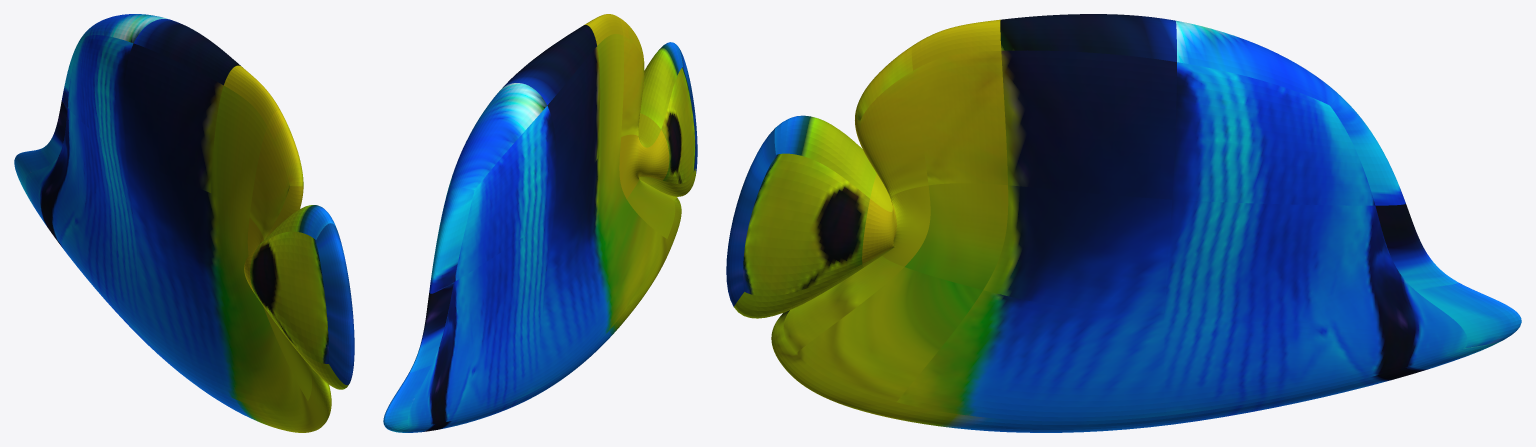
The model's file is bluefishmid.obj.
3 renders of one model, left to right at view 1: azimuth 30°, elevation 25°; view 2: azimuth 150°, elevation 25°; view 3: azimuth 270°, elevation 25°, orthographic. The views are drawn at different scales.
Parts seen in each view (by area): view 1: Cube; view 2: Cube; view 3: Cube.
Boxes of the visible parts, <box> form: Cube: <box>14,14,354,432</box>; Cube: <box>383,14,697,432</box>; Cube: <box>726,14,1521,432</box>.
Bounding box in the file's own units: 0.2277 × 1.03 × 1.79.
